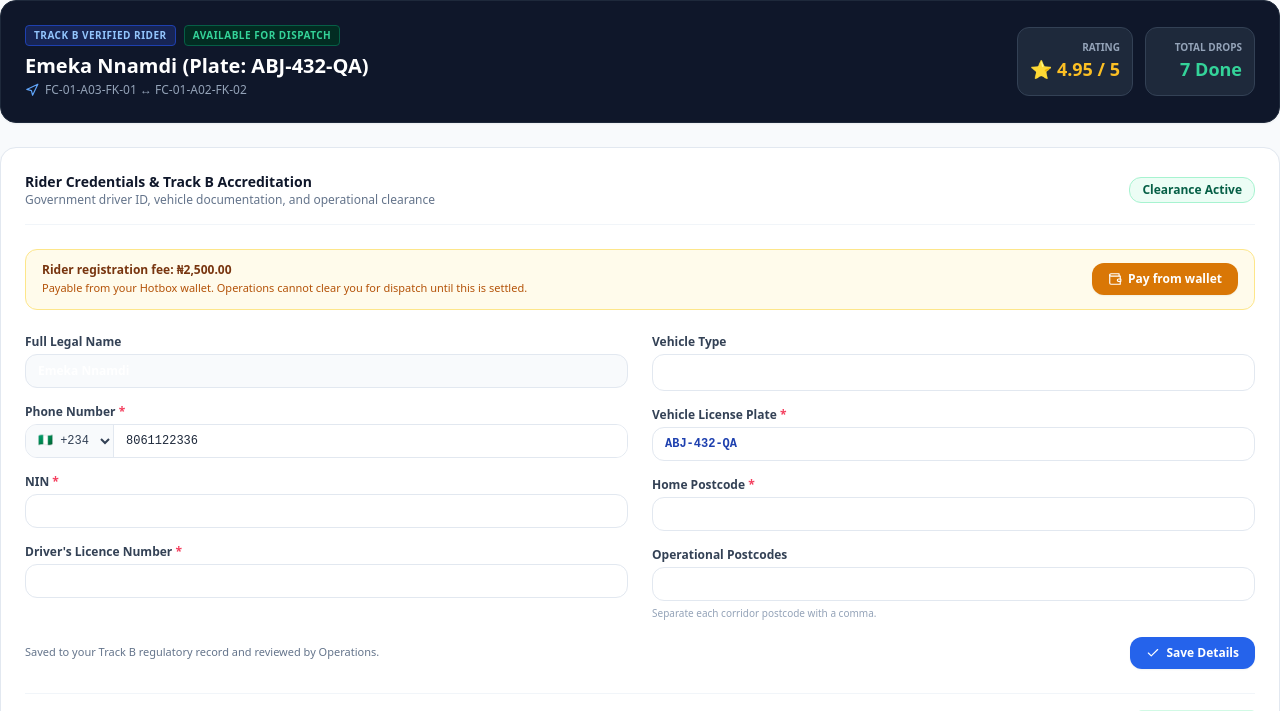
Test: RiderRadarConsole › collects the administrator-set registration fee from the wallet
Check: the text "Rider registration fee: ₦2,500.00" is shown, box [42,261,232,278]
Click the button "Pay from wallet" at (1165,279), box [1092,263,1238,295]
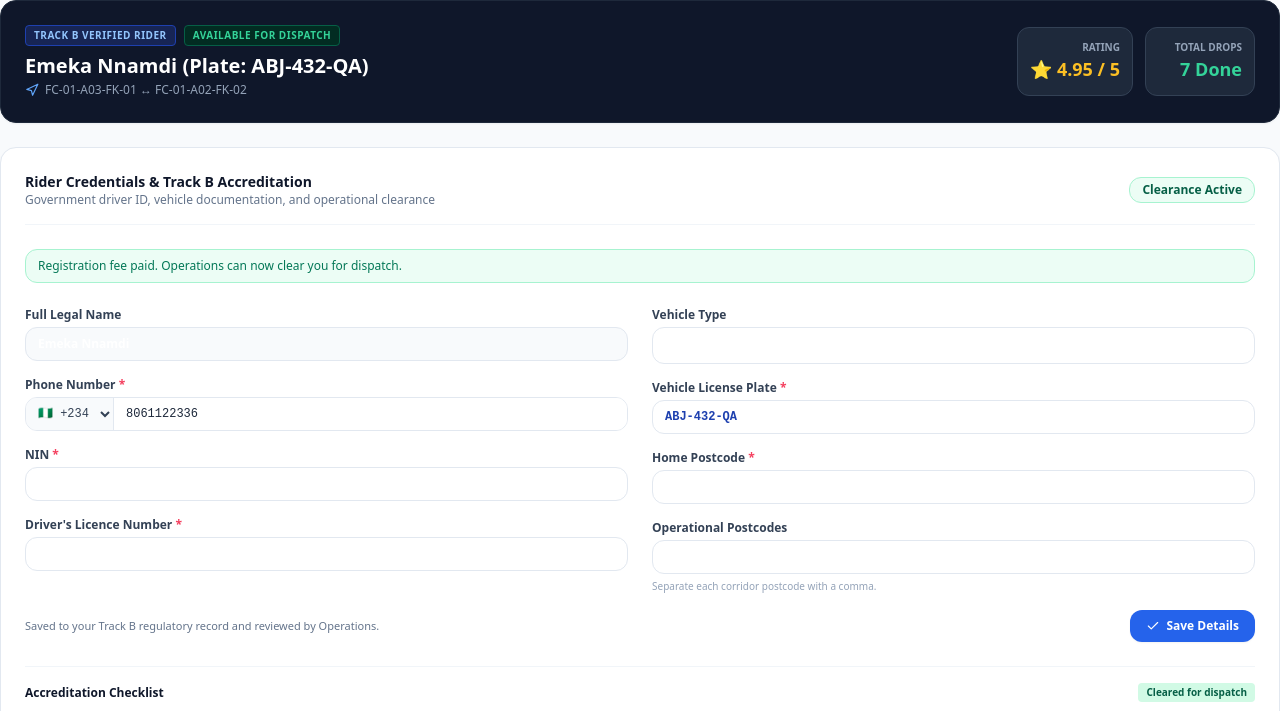
Check: the text "Registration fee paid" is shown, box [38,257,402,274]
Check: the text "Rider registration fee:" is gone
